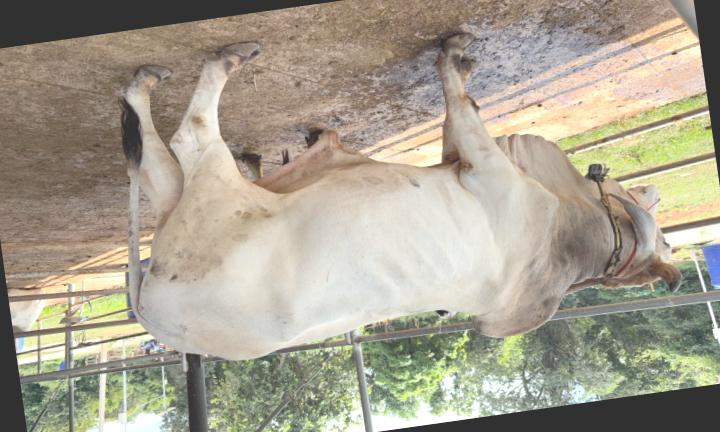Brahman: (120, 33, 681, 360)
